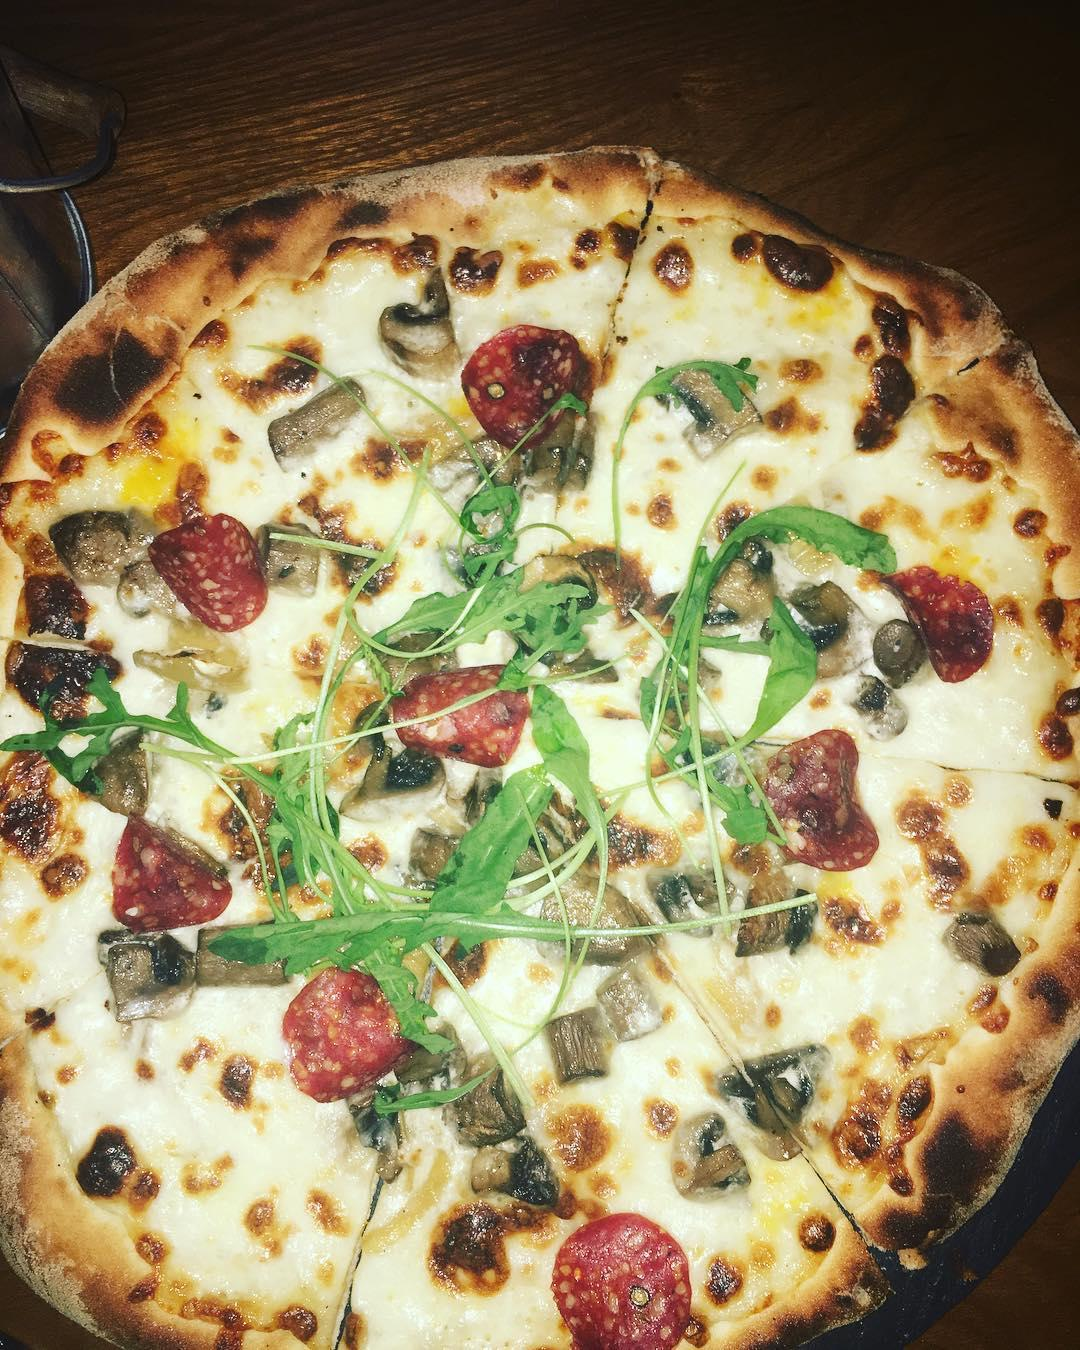Basil: (665, 471, 875, 831), (230, 770, 542, 983), (357, 531, 584, 669), (18, 671, 272, 786), (607, 344, 749, 445)
Mushroom: (253, 370, 374, 485), (790, 560, 890, 690), (650, 1111, 768, 1212), (540, 861, 651, 968), (447, 1068, 544, 1188), (360, 260, 464, 367), (45, 489, 151, 592), (80, 910, 195, 1002), (344, 724, 456, 816), (734, 1034, 824, 1146), (935, 900, 1029, 1000), (516, 398, 600, 505), (640, 863, 742, 946), (87, 721, 163, 825), (585, 955, 673, 1040), (532, 995, 619, 1079)
Pepperoni: (548, 1208, 699, 1346), (760, 704, 881, 872), (281, 964, 403, 1109), (384, 665, 531, 775), (100, 821, 244, 930), (464, 321, 587, 440), (887, 558, 1003, 677), (151, 507, 264, 624)
Pizza: (0, 144, 1080, 1350)
